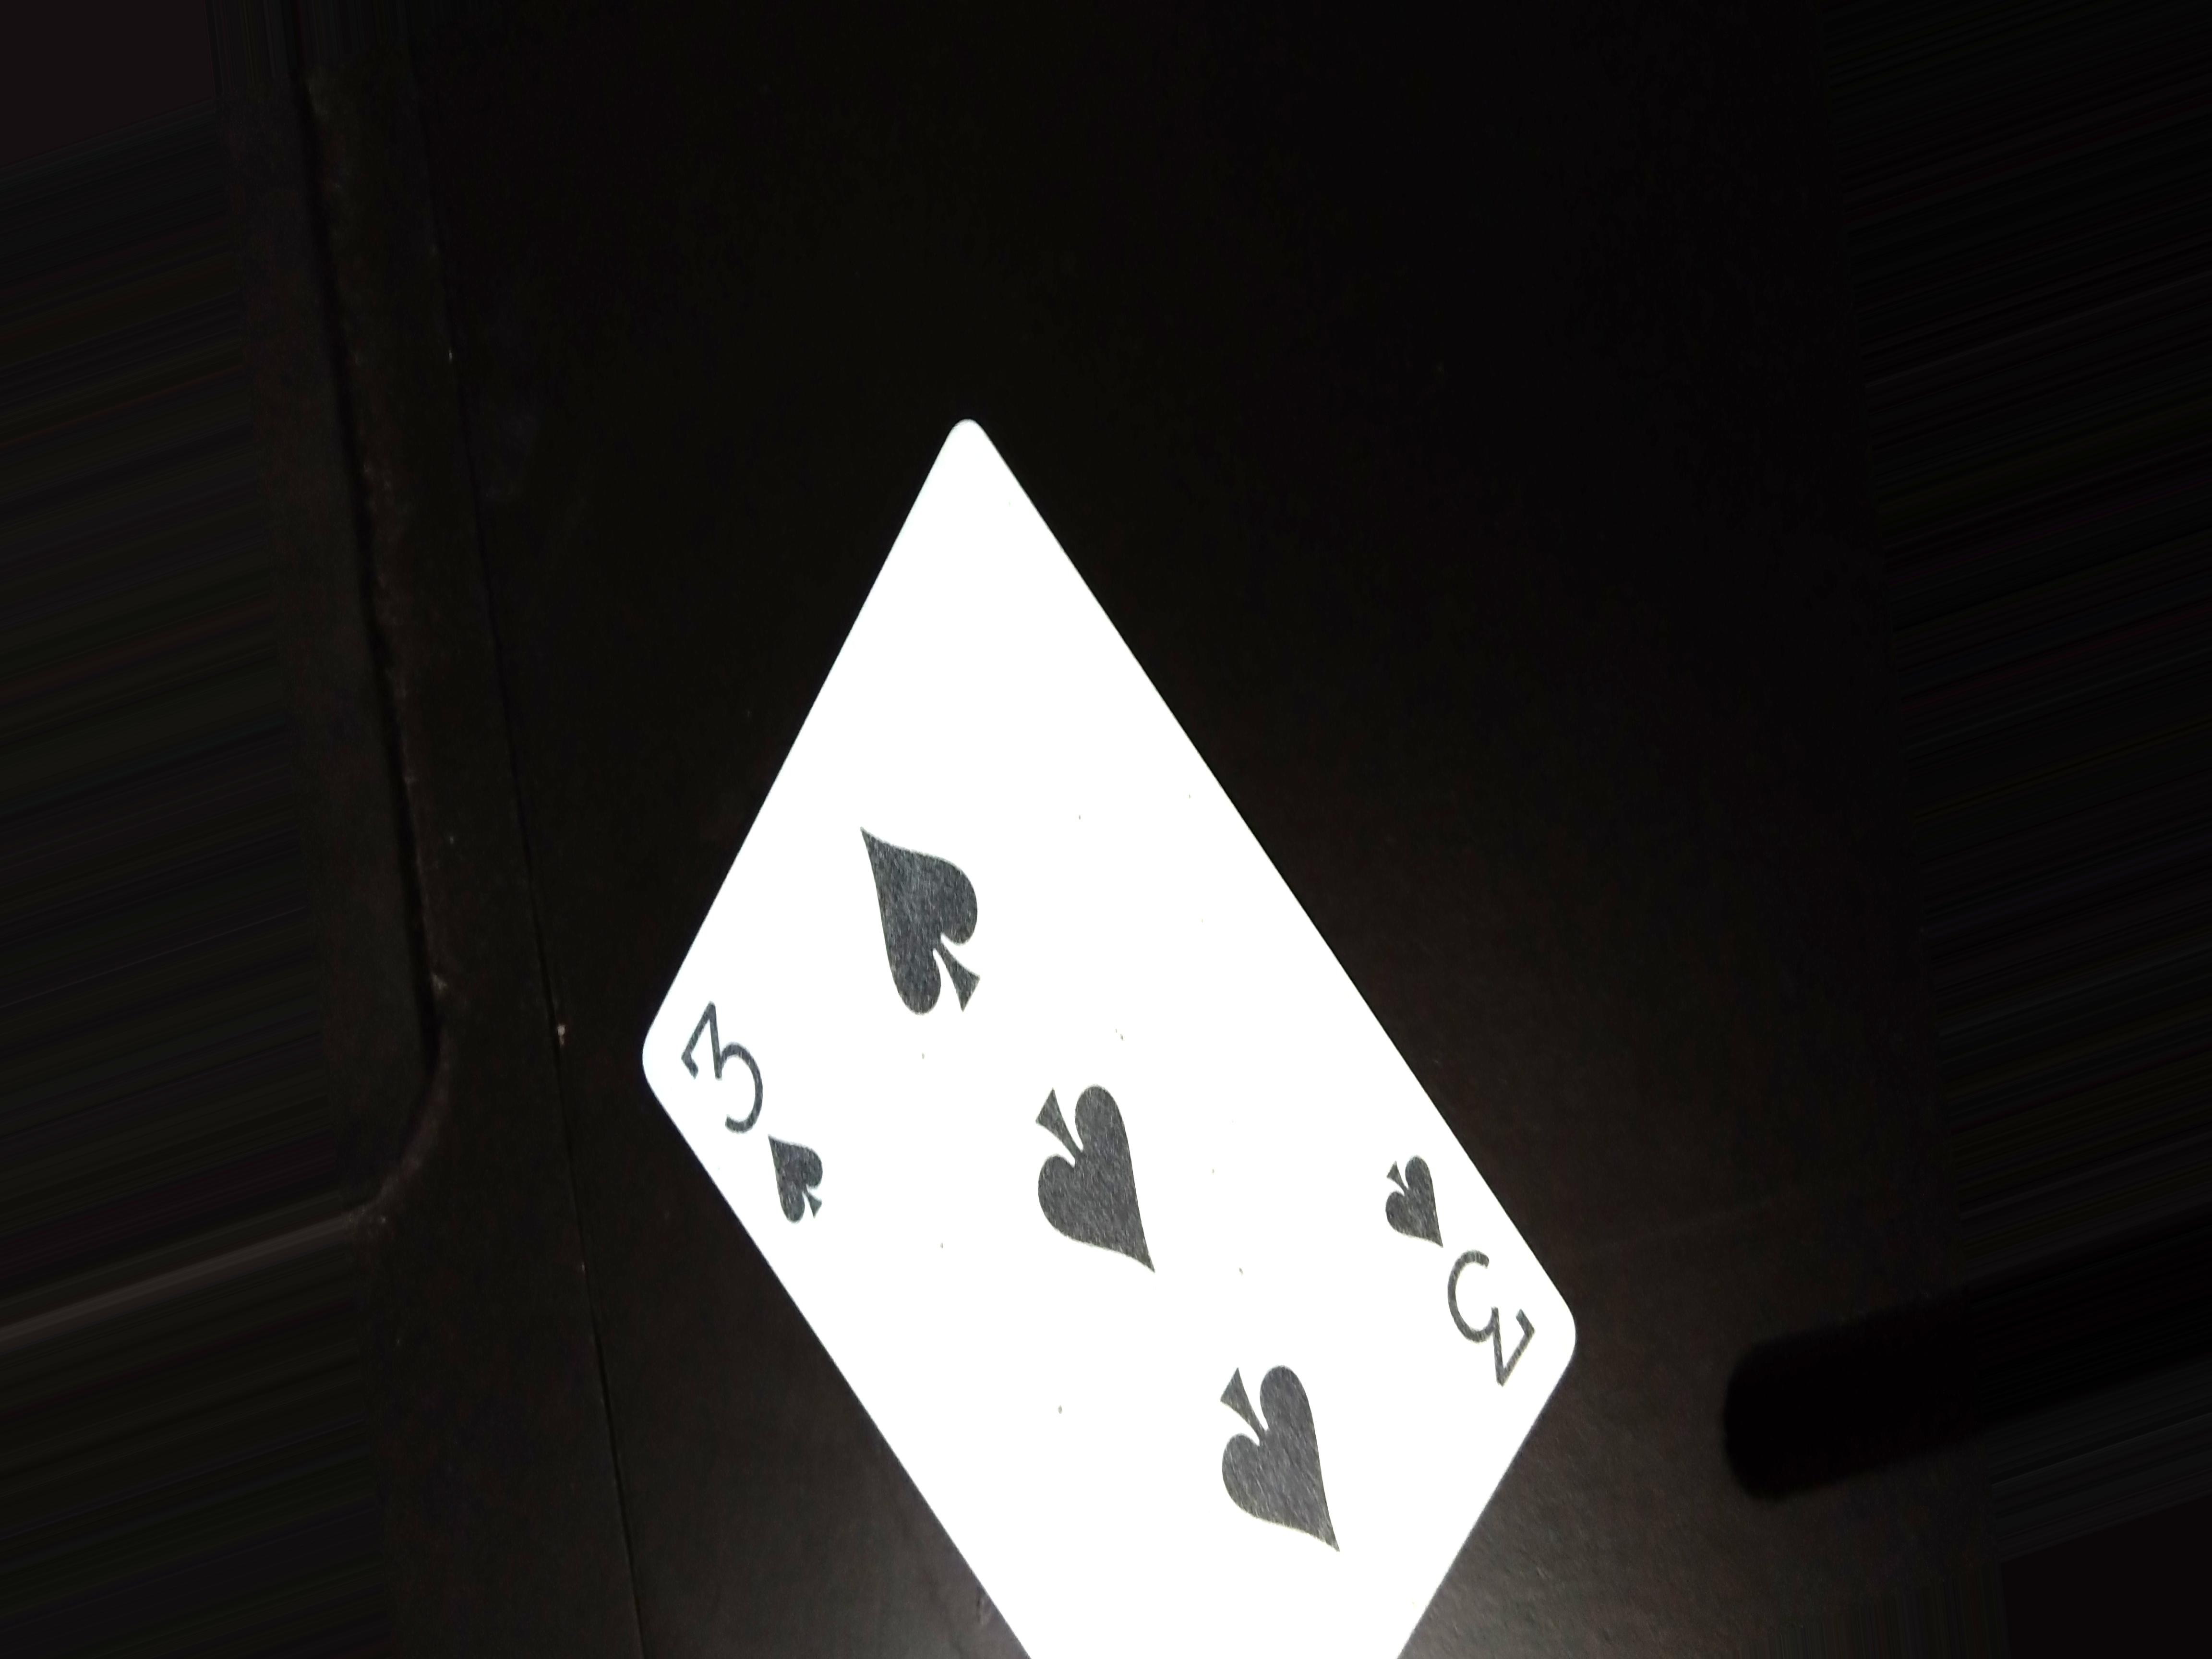3S: (665, 1006, 860, 1216)
